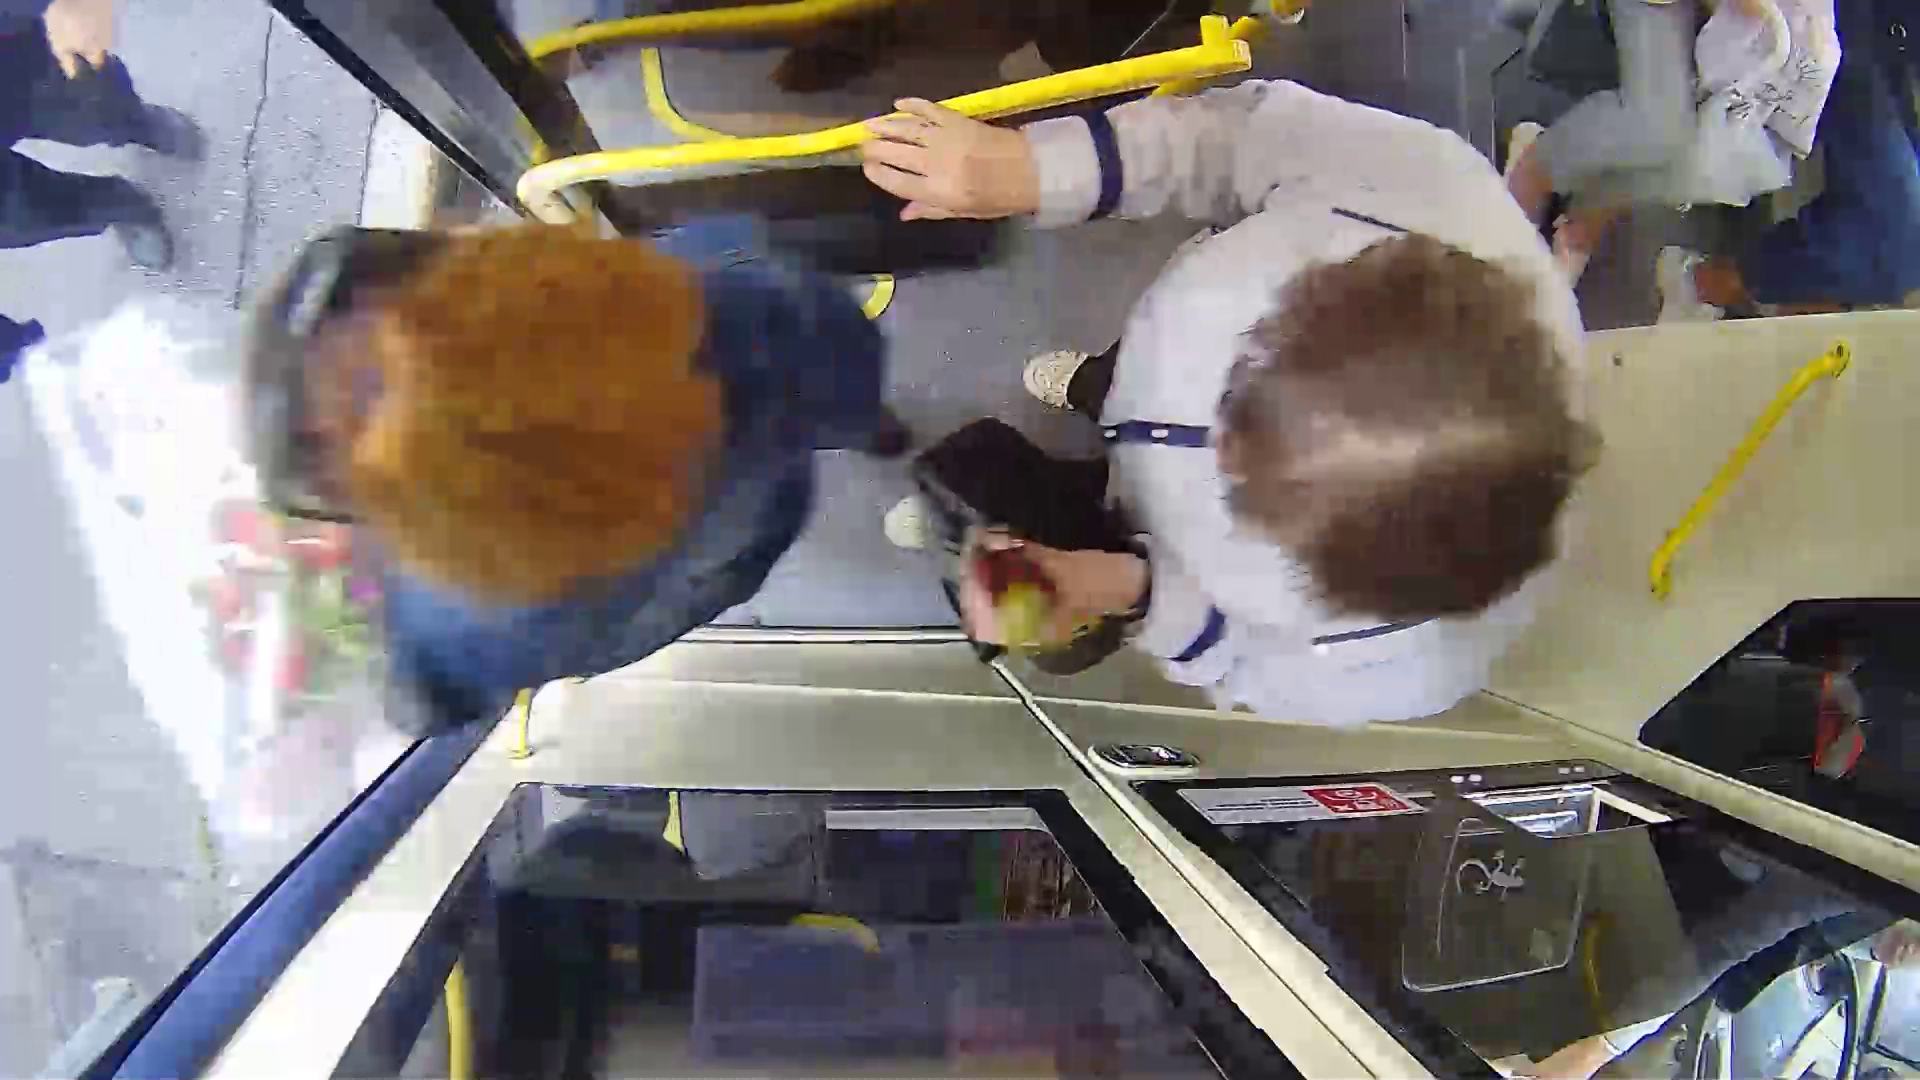person: (871, 73, 1624, 792), (250, 196, 843, 711)
